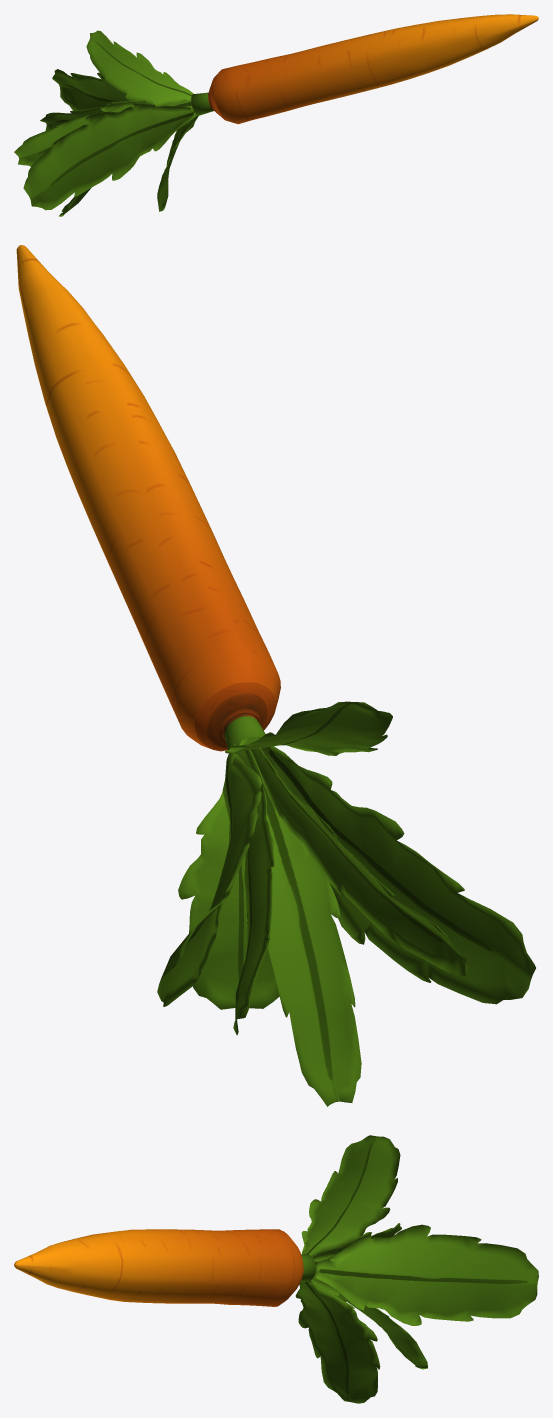
Rendered from carrot_dynamic.obj.
3 renders of one model, top to bottom at view 1: azimuth 30°, elevation 25°; view 2: azimuth 150°, elevation 25°; view 3: azimuth 270°, elevation 25°, orthographic. The views are drawn at different scales.
Size of the model in its own units: 0.6566 by 0.3849 by 0.6045.
3 materials, 3 textured.
